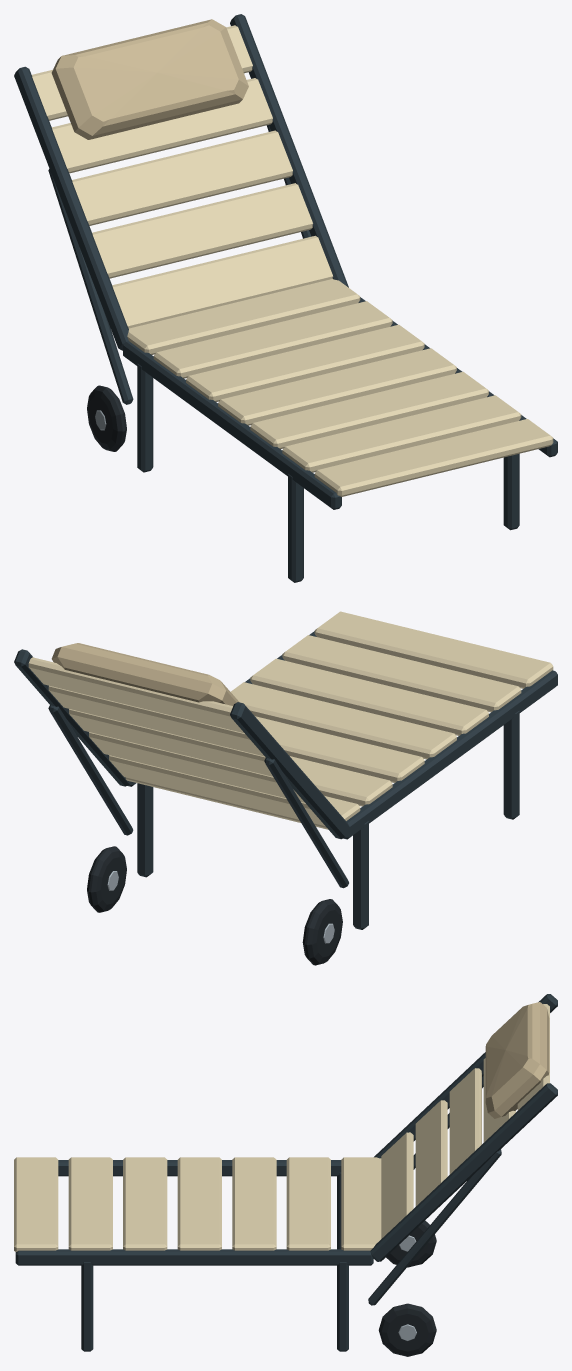
The model's file is b11_adjustable_patio_chaise.glb.
The picture shows the model from 3 angles, top to bottom: view 1: azimuth 30°, elevation 25°; view 2: azimuth 150°, elevation 25°; view 3: azimuth 270°, elevation 25°; orthographic projection. The views are drawn at different scales.
Parts seen in each view (by area): view 1: b11_adjustable_patio_chaise; view 2: b11_adjustable_patio_chaise; view 3: b11_adjustable_patio_chaise.
Boxes of the visible parts, x1,y1,x2,y2 form: b11_adjustable_patio_chaise: (14, 14, 557, 582); b11_adjustable_patio_chaise: (14, 611, 557, 965); b11_adjustable_patio_chaise: (14, 994, 557, 1356).
Bounding box in the file's own units: 0.6592 × 0.9081 × 1.6.
